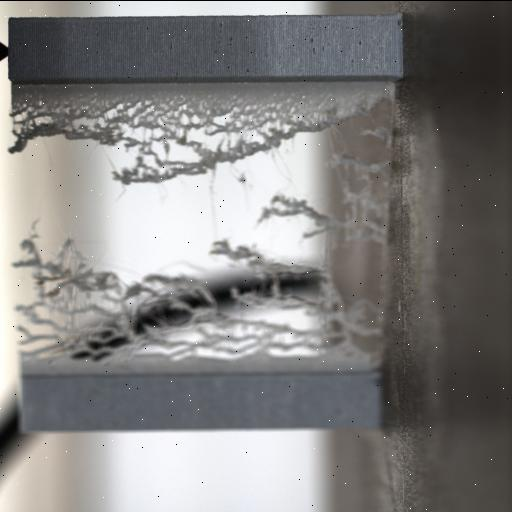stringing: (14, 224, 348, 364), (9, 92, 386, 190)
